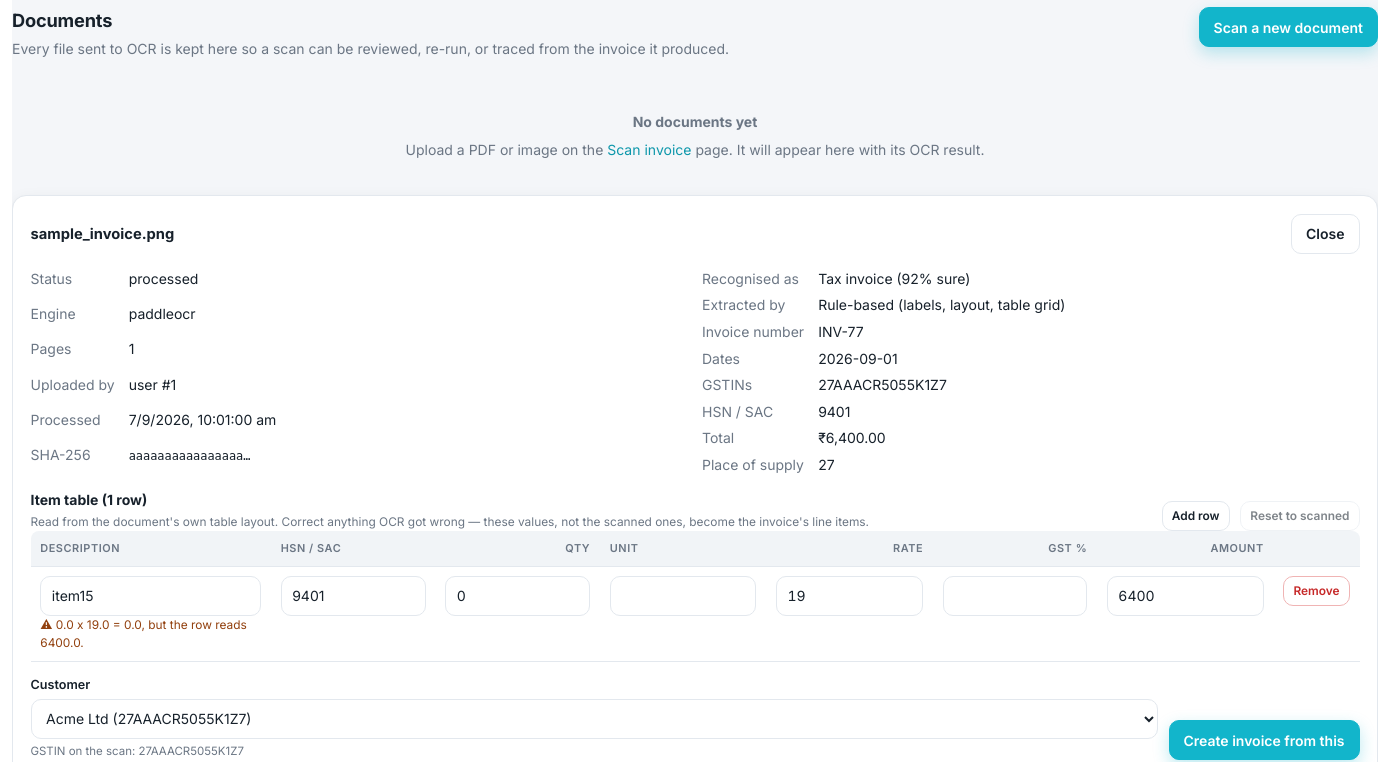
Test: documents detail panel › lets the user correct a row, and re-checks the arithmetic as they do
This screenshot has width=1378, height=762.
Clear the number field named "Quantity, row 1". click: (518, 596)
box: [445, 576, 590, 616]
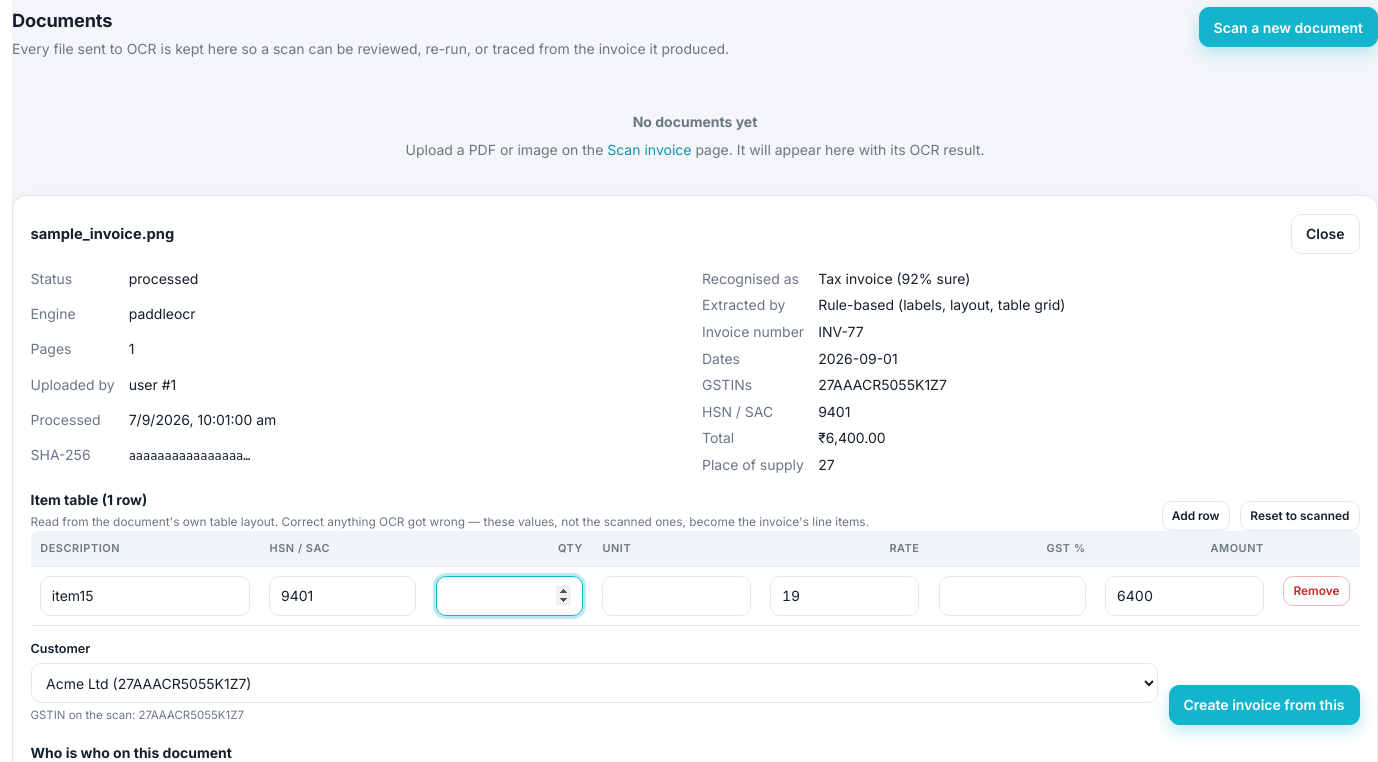
Type "1" into the number field named "Quantity, row 1". click: (509, 596)
box: [436, 576, 583, 616]
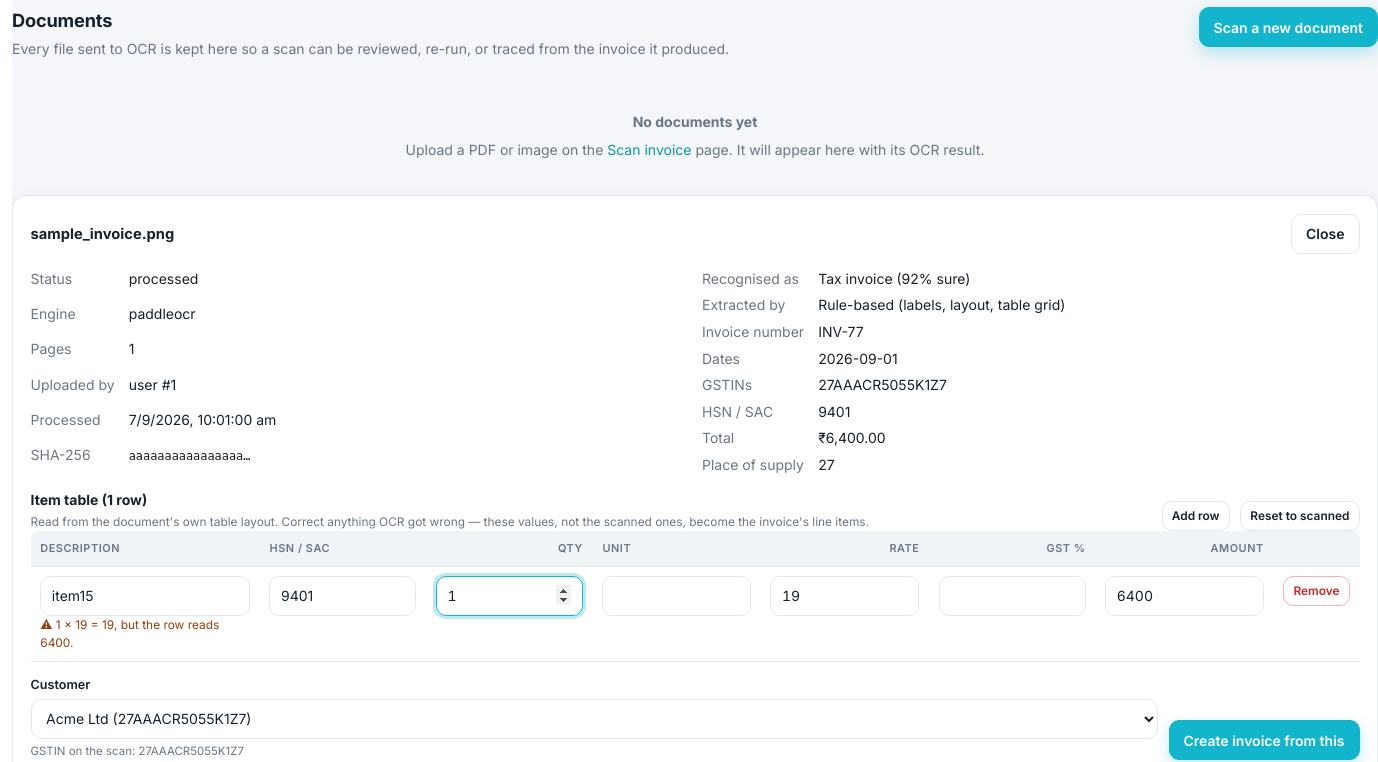
Replace the text in the number field named "Amount, row 1" with "19". click: (1184, 596)
box: [1105, 576, 1264, 616]
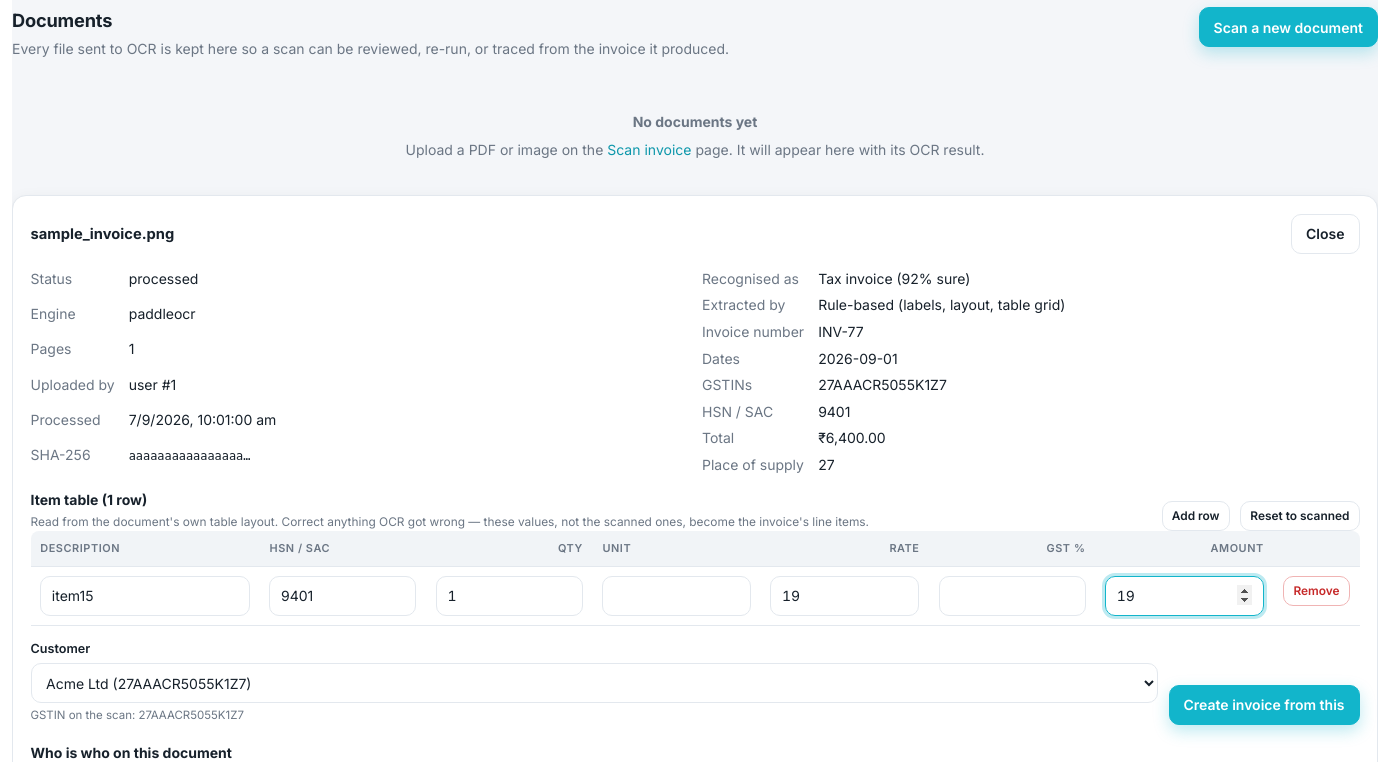
Expected: the text "but the row reads" is not shown
Replace the text in the number field named "Quantity, row 1" with "2". click: (509, 596)
box: [436, 576, 583, 616]
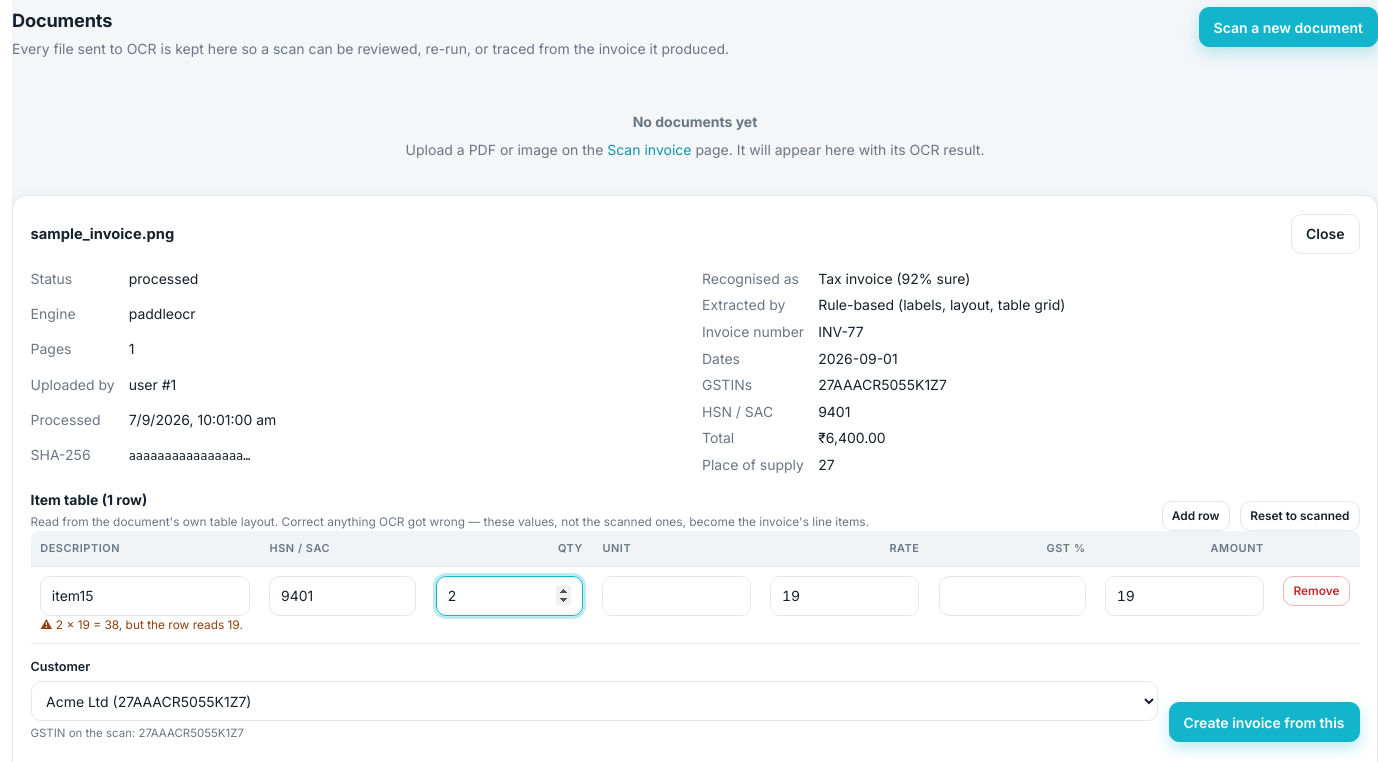
Result: the text "⚠ 2 x 19 = 38, but the row reads 19." is shown at [40, 616, 250, 634]
